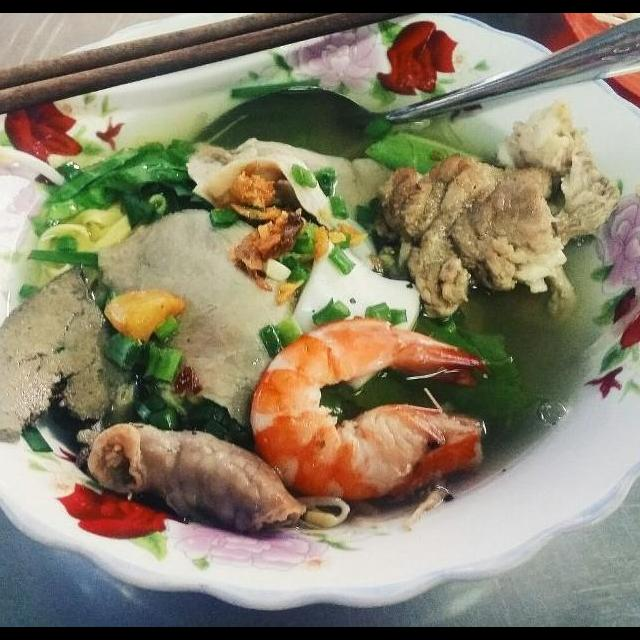gan: (0, 249, 143, 452)
thit heo: (368, 94, 618, 326), (86, 200, 322, 434)
tom: (243, 309, 500, 517)
